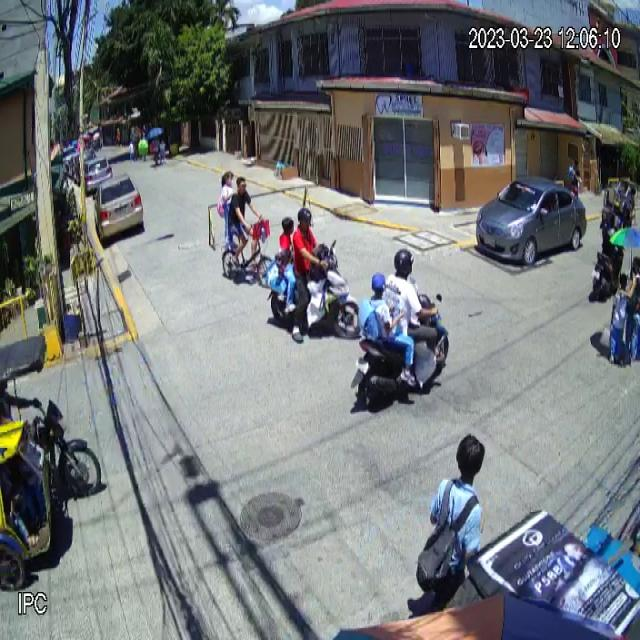Car: (473, 172, 589, 266)
Motorcycle: (351, 288, 452, 411), (266, 247, 364, 344)
